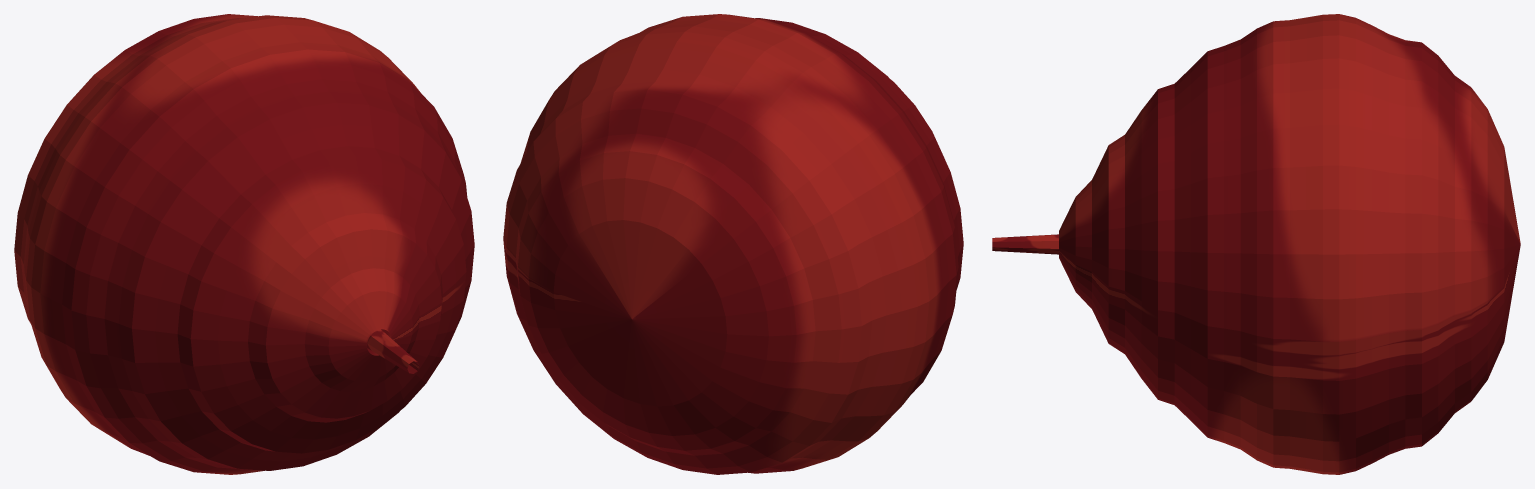
The model's file is apple_03_realistic.obj.
3 views of the same model, side by side, from view 1: azimuth 30°, elevation 25°; view 2: azimuth 150°, elevation 25°; view 3: azimuth 270°, elevation 25° (orthographic). The views are drawn at different scales.
Bounding box in the file's own units: 2 × 2 × 2.29.
Materials: 1 (1 with a texture image).
